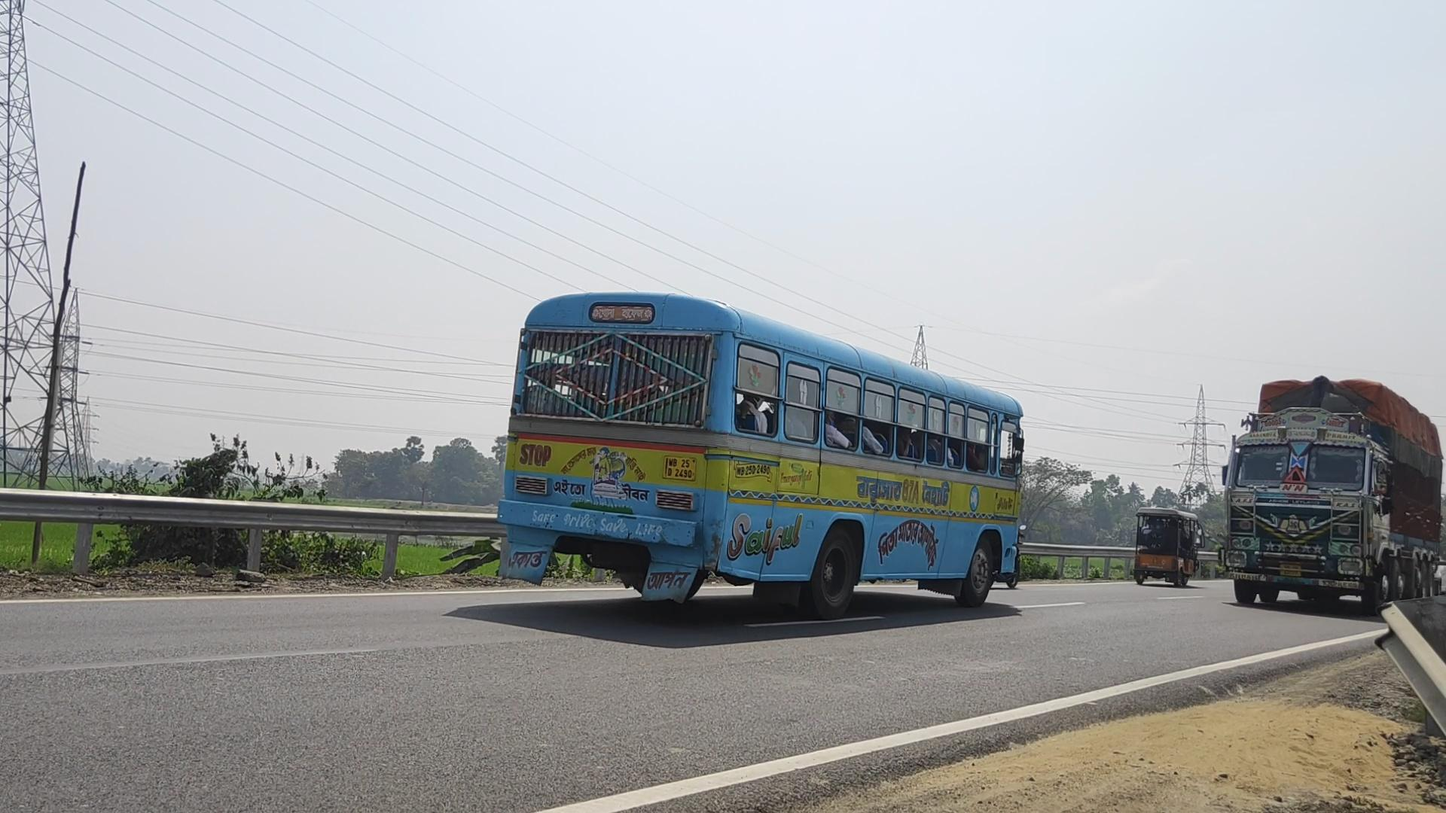Auto: (1135, 507, 1205, 589)
Bus: (496, 291, 1022, 620)
truck: (1221, 376, 1443, 616)
